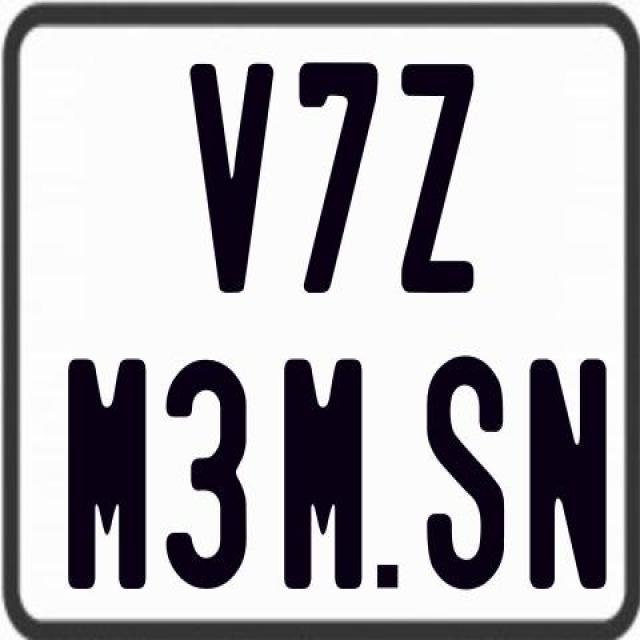3: (163, 360, 244, 597)
7: (297, 63, 380, 300)
M: (280, 353, 364, 584), (64, 354, 143, 594)
N: (529, 357, 607, 592)
S: (426, 352, 506, 589)
V: (188, 64, 276, 293)
Z: (400, 59, 478, 290)
